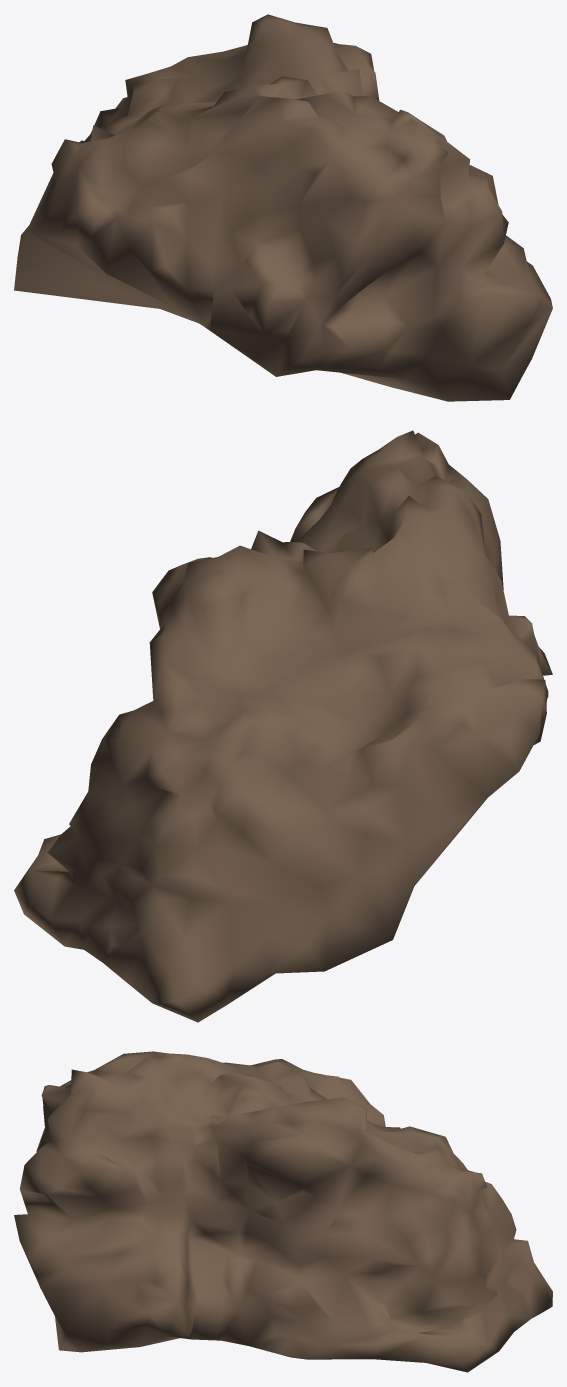
The model's file is BoulderJagged.gltf.
The picture shows the model from 3 angles, top to bottom: view 1: azimuth 30°, elevation 25°; view 2: azimuth 150°, elevation 25°; view 3: azimuth 270°, elevation 25°; orthographic projection. The views are drawn at different scales.
Parts seen in each view (by area): view 1: lo; view 2: lo; view 3: lo.
Boxes of the visible parts, x1,y1,x2,y2 form: lo: (14, 14, 552, 401); lo: (14, 430, 552, 1022); lo: (14, 1051, 552, 1372).
Size of the model in its own units: 1.5 by 1.18 by 2.13.
